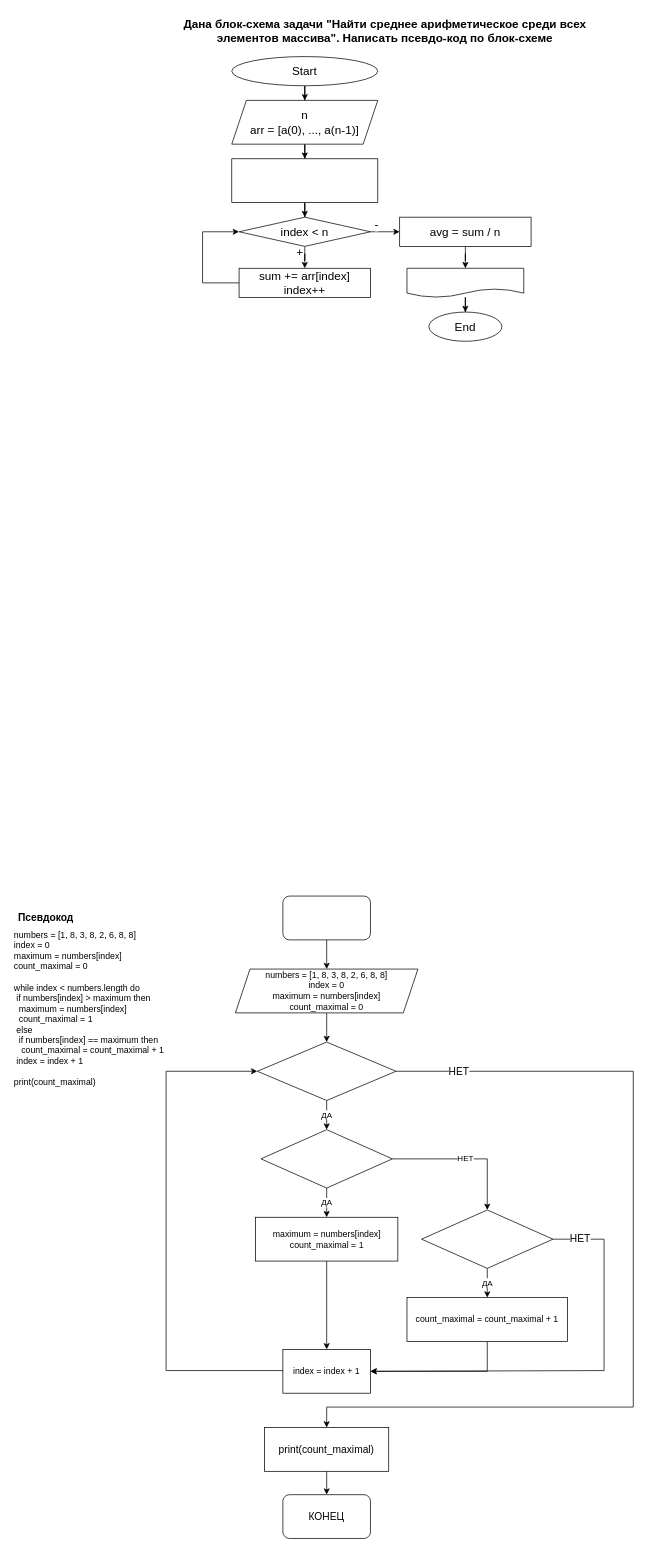
The diagram is 652 pixels wide and 1551 high, and some of its shapes have lost their labels. Here are the shapes that lost their labels. From the top down, the box of each, then its label:
(231, 158, 378, 203): index = 0 sum = 0 avg = 0
(406, 268, 524, 297): avg
(282, 895, 370, 940): НАЧАЛО
(257, 1041, 396, 1100): index < numbers.length
(260, 1129, 392, 1188): numbers[index] > maximum
(421, 1209, 553, 1268): numbers[index] == maximum
